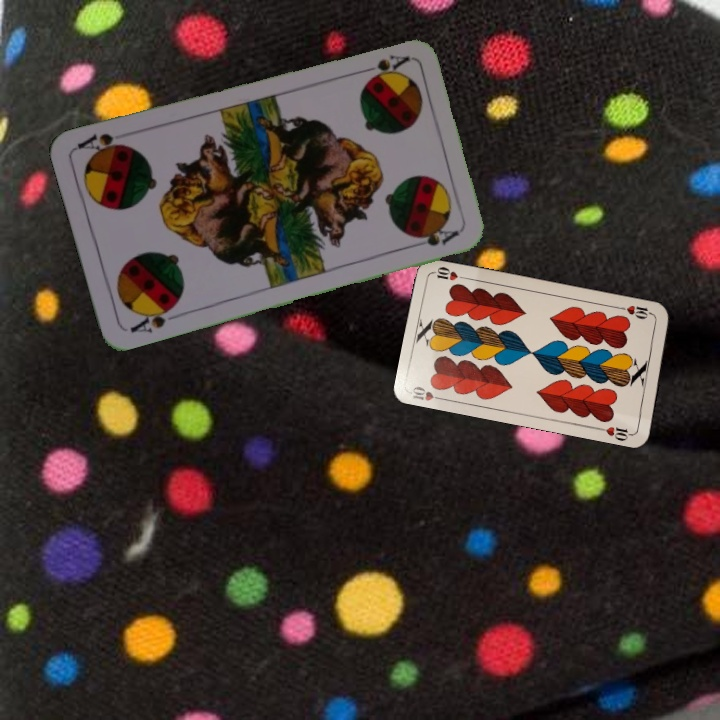H10: (407, 381, 448, 404), (616, 301, 656, 322)
SA: (126, 300, 179, 336), (353, 50, 411, 79)
